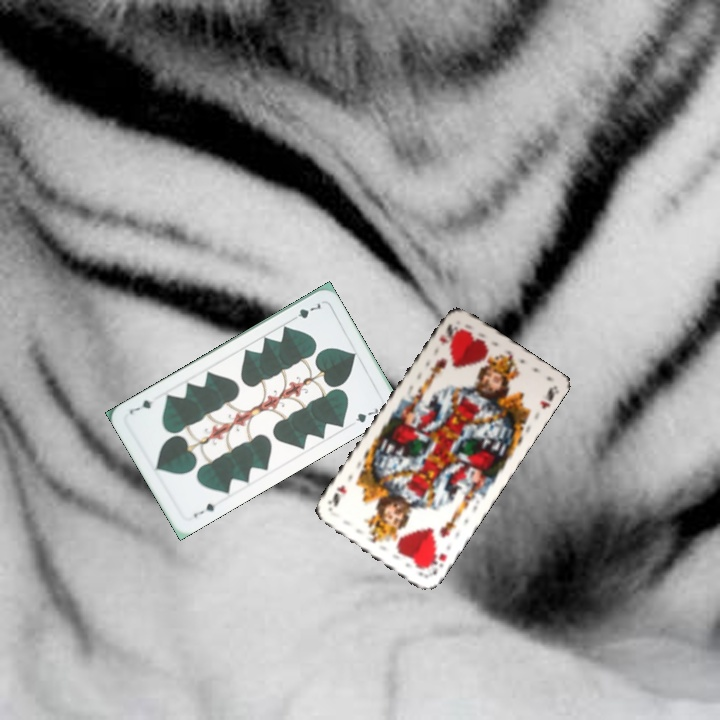G7: (287, 298, 323, 324), (190, 499, 218, 521)
HK: (420, 549, 449, 579), (435, 320, 457, 347)
